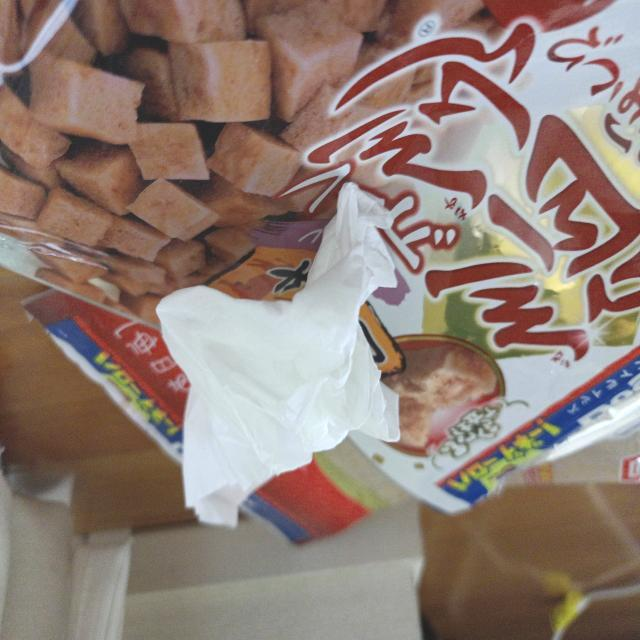Paper: (157, 199, 386, 480)
